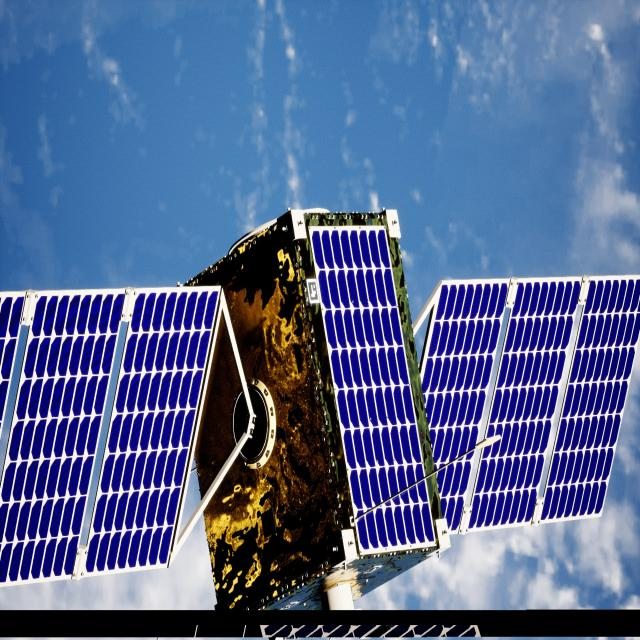medium_debris: (0, 209, 640, 614)
